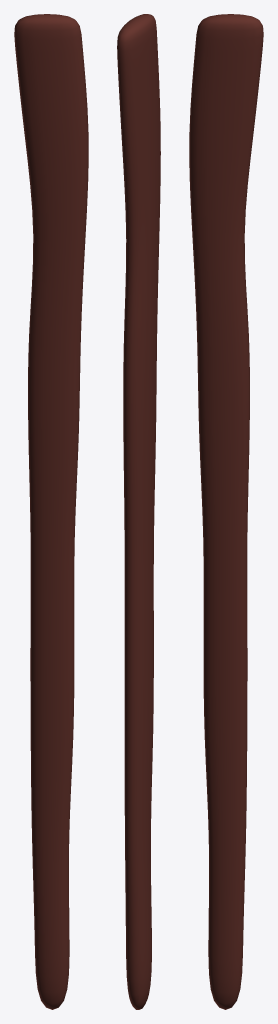
Rendered from coffeefiller_coffee.fbx.
The picture shows the model from 3 angles, left to right: view 1: azimuth 90°, elevation 25°; view 2: azimuth 150°, elevation 25°; view 3: azimuth 270°, elevation 25°; orthographic projection.
Parts seen in each view (by area): view 1: Cube.010; view 2: Cube.010; view 3: Cube.010.
Boxes of the visible parts, box(x1,y1,x2,y2) form: Cube.010: box(14, 14, 88, 1009); Cube.010: box(117, 14, 160, 1009); Cube.010: box(189, 14, 263, 1009).
Size of the model in its own units: 12.47 by 550 by 37.3.
